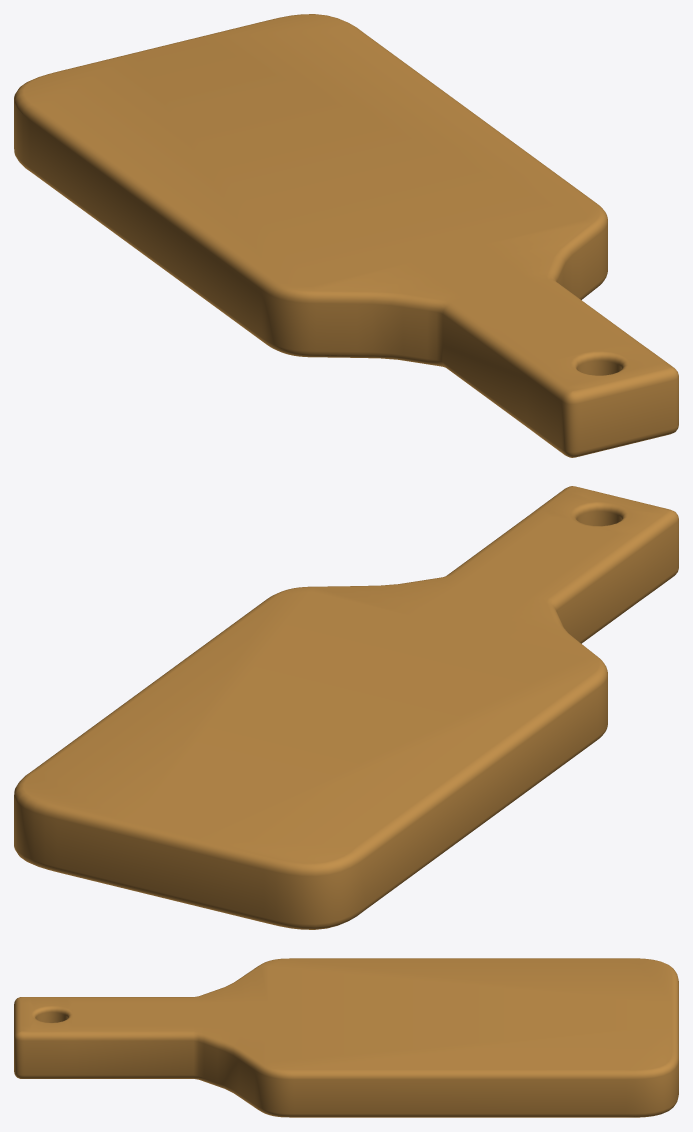
Rendered from ChoppingBoard.fbx.
3 views of the same model, one above another, from view 1: azimuth 30°, elevation 25°; view 2: azimuth 150°, elevation 25°; view 3: azimuth 270°, elevation 25° (orthographic). The views are drawn at different scales.
Parts seen in each view (by area): view 1: Cube; view 2: Cube; view 3: Cube.
Boxes of the visible parts, left/top/right/bottom form: Cube: left=14, top=14, right=678, bottom=457; Cube: left=14, top=486, right=678, bottom=929; Cube: left=14, top=958, right=678, bottom=1117.
Bounding box in the file's own units: 135 × 25.22 × 324.
